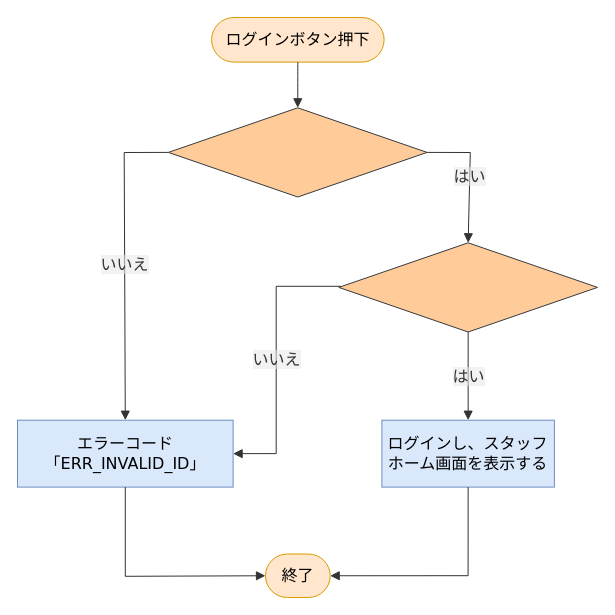
Image size: 615x615. Some labels were removed from this diagram. Each missing label, with the box of its shape:
スタッフIDが 入力されているか？: (167, 107, 427, 197)
入力されているスタッフIDは 登録されているものか？: (338, 242, 598, 332)
